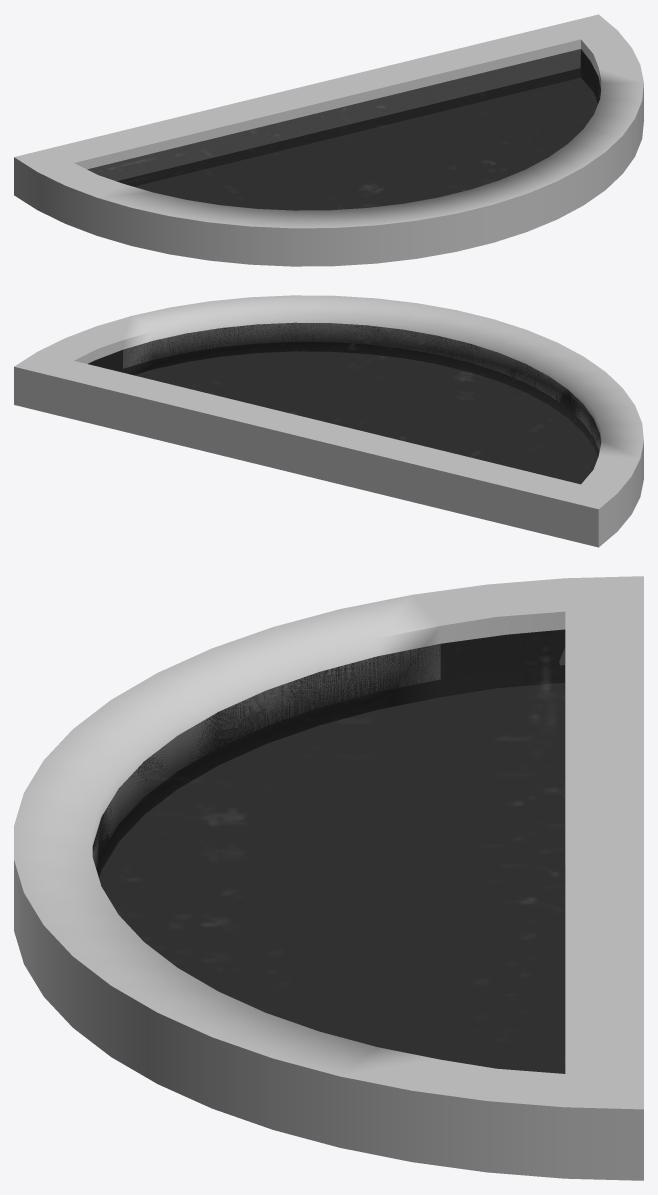
The model's file is glass_1x1_halfcircle.fbx.
The picture shows the model from 3 angles, top to bottom: view 1: azimuth 30°, elevation 25°; view 2: azimuth 150°, elevation 25°; view 3: azimuth 270°, elevation 25°; orthographic projection. The views are drawn at different scales.
Parts seen in each view (by area): view 1: glass_1x1_halfcircle; view 2: glass_1x1_halfcircle; view 3: glass_1x1_halfcircle.
Boxes of the visible parts, x1,y1,x2,y2 form: glass_1x1_halfcircle: (14, 14, 643, 266); glass_1x1_halfcircle: (14, 295, 643, 547); glass_1x1_halfcircle: (14, 576, 643, 1180).
Bounding box in the file's own units: 40.05 × 2.5 × 19.99.
